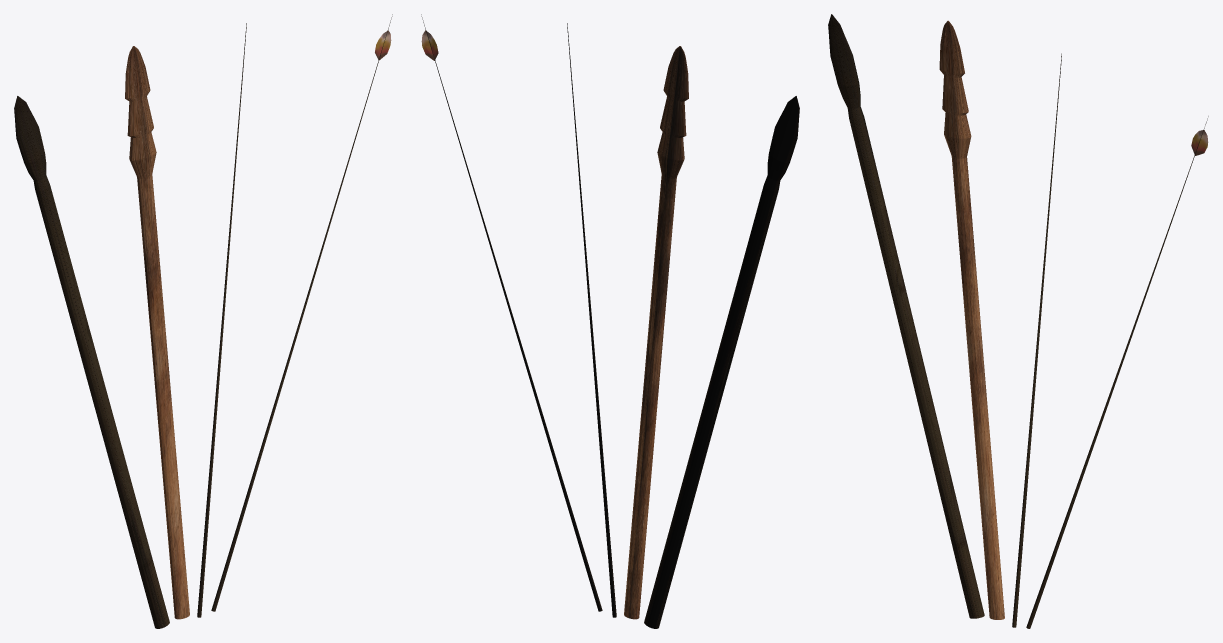
Rendered from nanki.glb.
The picture shows the model from 3 angles, left to right: view 1: azimuth 30°, elevation 25°; view 2: azimuth 150°, elevation 25°; view 3: azimuth 330°, elevation 25°; orthographic projection.
Parts seen in each view (by area): view 1: Cylinder.001, Cylinder.000, Cylinder, Cylinder.002; view 2: Cylinder.001, Cylinder.000, Cylinder, Cylinder.002; view 3: Cylinder.001, Cylinder.000, Cylinder, Cylinder.002.
Part boxes in pixels (left/top/right/bottom): Cylinder.001: left=125, top=46, right=189, bottom=619; Cylinder.000: left=14, top=96, right=169, bottom=628; Cylinder: left=197, top=23, right=246, bottom=617; Cylinder.002: left=211, top=14, right=392, bottom=611; Cylinder.001: left=624, top=46, right=688, bottom=619; Cylinder.000: left=644, top=96, right=799, bottom=628; Cylinder: left=567, top=23, right=616, bottom=617; Cylinder.002: left=421, top=14, right=602, bottom=611; Cylinder.001: left=939, top=20, right=1004, bottom=619; Cylinder.000: left=828, top=14, right=984, bottom=618; Cylinder: left=1012, top=53, right=1061, bottom=627; Cylinder.002: left=1026, top=116, right=1208, bottom=628.
Bounding box in the file's own units: 26.44 × 39.19 × 0.855.
3 materials, 3 textured.
